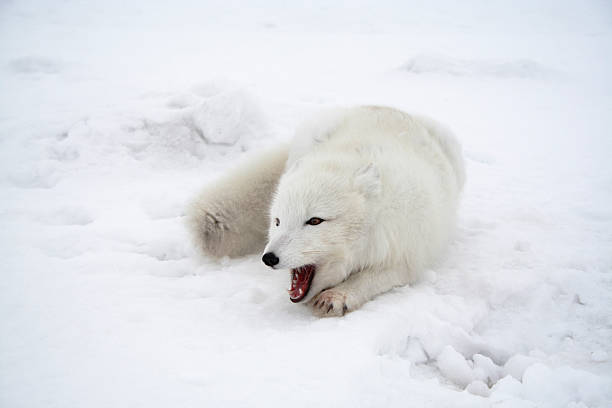arcticfox: (254, 177, 376, 301)
